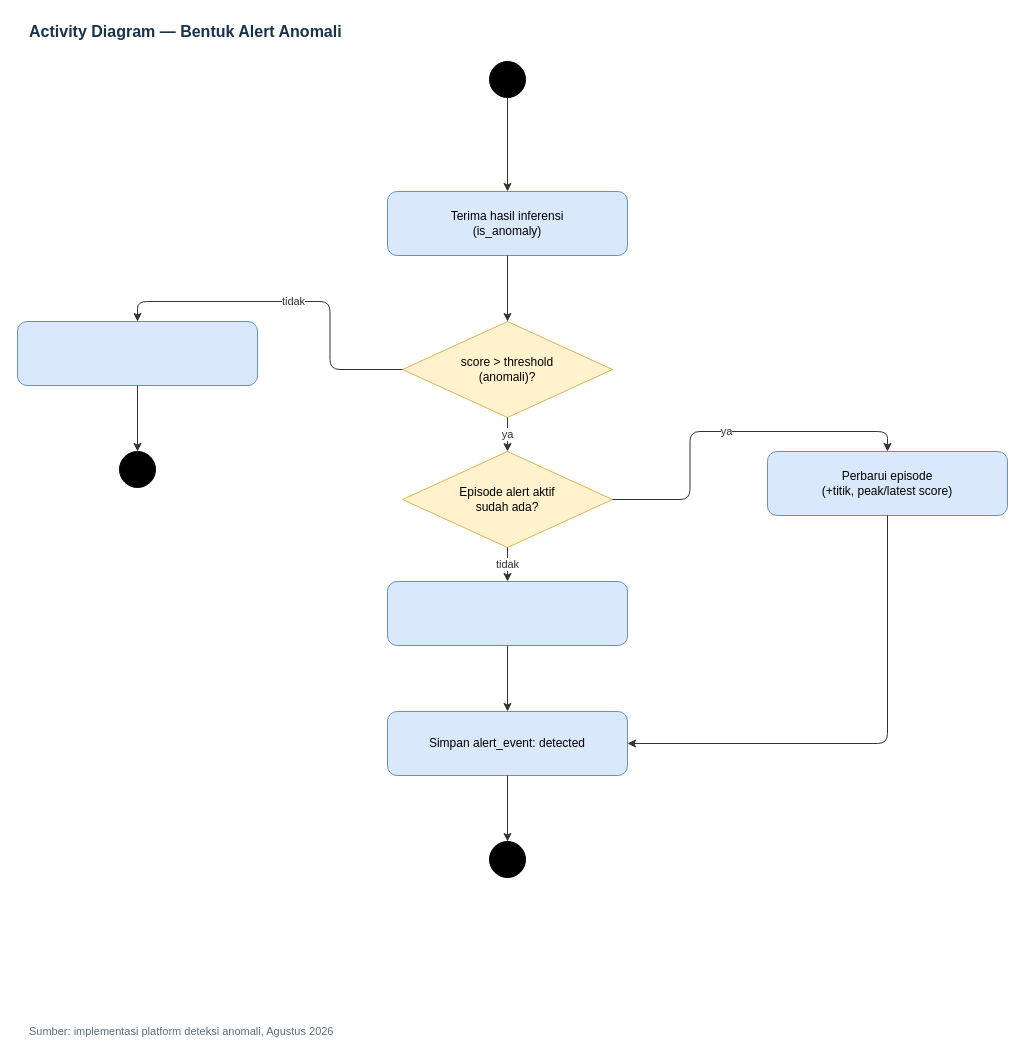
Some shapes in this 1025 by 1058 pixel diagram are drawn without their labels. Here are the shapes that lost their labels. From the top down, the centre of each, then its label:
the point at 137,353: Perbarui / tutup episode berjalan (3 titik normal beruntun -> normal)
the point at 507,613: Buat episode + alert baru (live_alert_episodes, alerts)
